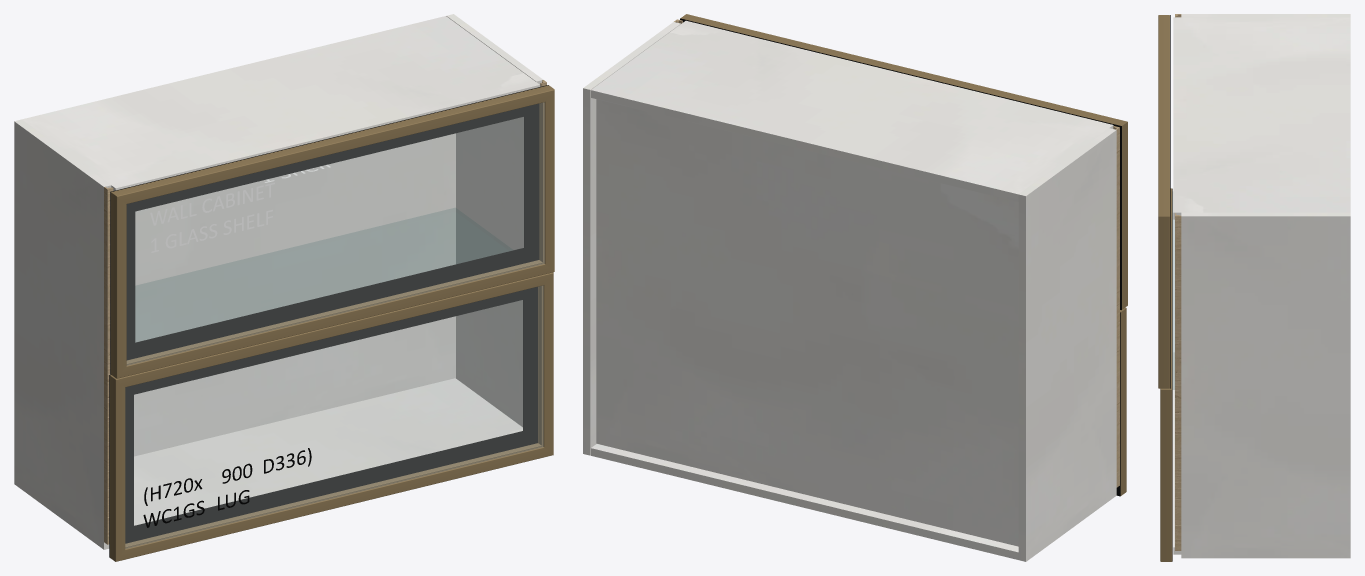
File: WC-LU-NHX-GL-1SG-XXX-XXX-900-725-336-15.glb
3 views of the same model, side by side, from view 1: azimuth 30°, elevation 25°; view 2: azimuth 150°, elevation 25°; view 3: azimuth 270°, elevation 25° (orthographic). The views are drawn at different scales.
Visible parts, largest first — view 1: Object_node_4, Object_node_8, TP_node_2, TP, Neon 22 Profile ALU PROF NEON 20 L21XH22.5MM 3MTR S2/405 SEC (×8), TP_node_0, TP_node, TP_node_1, Object_node_10, Object_node_6, Object_node_12, 2D text (+1 smaller); view 2: TP_node_2, TP, TP_node_0, TP_node, TP_node_1, Neon 22 Profile ALU PROF NEON 20 L21XH22.5MM 3MTR S2/405 SEC (×3), Object_node_12, Object_node_10; view 3: TP_node_1, TP, Neon 22 Profile ALU PROF NEON 20 L21XH22.5MM 3MTR S2/405 SEC (×4), Object_node_20, TP_node_0, TP_node, Object_node_6, Object_node_10, Object_node_1.
Part boxes in pixels (x1,y1,x2,y2): Object_node_4: (125, 286, 543, 548); Object_node_8: (127, 102, 544, 365); TP_node_2: (134, 133, 455, 456); TP: (22, 16, 539, 190); Neon 22 Profile ALU PROF NEON 20 L21XH22.5MM 3MTR S2/405 SEC (×8): (110, 85, 554, 561); TP_node_0: (14, 119, 111, 549); TP_node: (134, 378, 522, 525); TP_node_1: (446, 14, 543, 427); Object_node_10: (110, 85, 548, 374); Object_node_6: (109, 287, 537, 557); Object_node_12: (104, 186, 113, 544); 2D text: (150, 182, 274, 252); TP_node_2: (596, 99, 1018, 546); TP: (591, 20, 1113, 201); TP_node_0: (1018, 128, 1116, 561); TP_node: (591, 444, 1018, 559); TP_node_1: (583, 22, 680, 455); Neon 22 Profile ALU PROF NEON 20 L21XH22.5MM 3MTR S2/405 SEC (×3): (680, 14, 1127, 495); Object_node_12: (1113, 126, 1119, 487); Object_node_10: (680, 18, 1121, 309); TP_node_1: (1181, 212, 1350, 558); TP: (1173, 17, 1350, 219); Neon 22 Profile ALU PROF NEON 20 L21XH22.5MM 3MTR S2/405 SEC (×4): (1158, 15, 1172, 561); Object_node_20: (1175, 213, 1181, 550); TP_node_0: (1181, 14, 1350, 17); TP_node: (1173, 352, 1181, 554); Object_node_6: (1172, 188, 1172, 561); Object_node_10: (1170, 15, 1170, 388); Object_node_1: (1173, 220, 1174, 389).
Size of what is drawn, in the model's own units: 0.9 by 0.7185 by 0.366.
8 materials, 2 textured.
